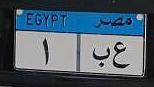1: (42, 35, 52, 67)
ain: (112, 40, 130, 70)
baa: (92, 45, 111, 71)
